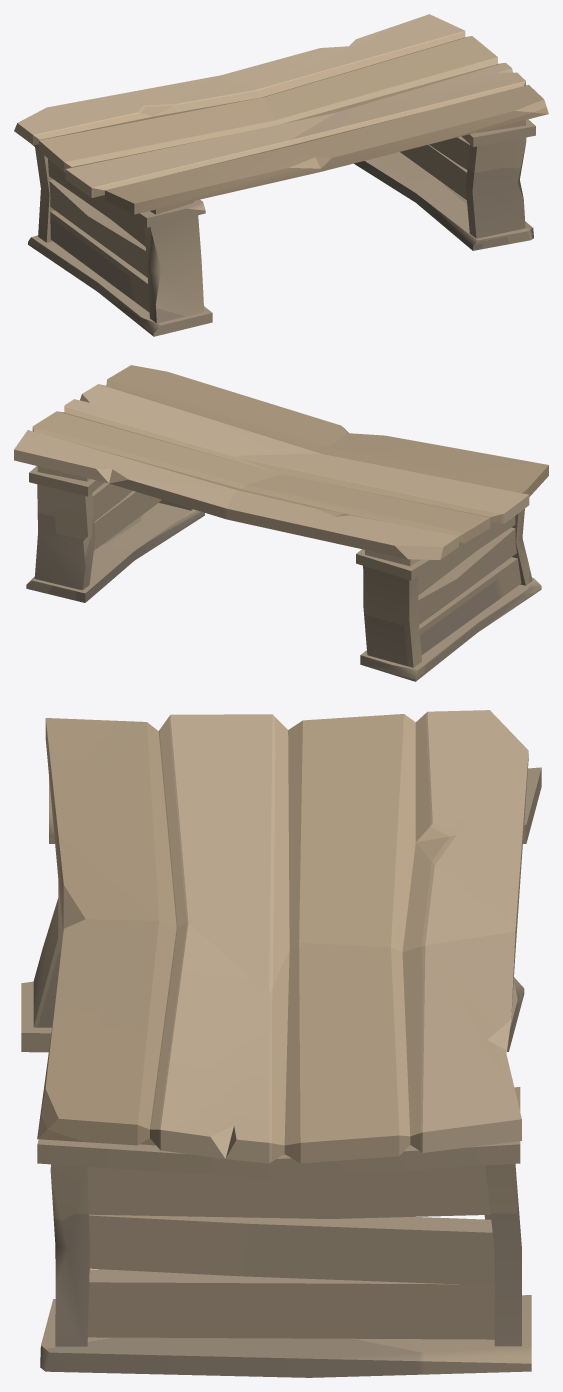
Rendered from SM_Prop_Makeshift_Table_01.glb.
3 renders of one model, top to bottom at view 1: azimuth 30°, elevation 25°; view 2: azimuth 150°, elevation 25°; view 3: azimuth 270°, elevation 25°, orthographic. The views are drawn at different scales.
Visible parts, largest first — view 1: SM_Prop_Makeshift_Table_01; view 2: SM_Prop_Makeshift_Table_01; view 3: SM_Prop_Makeshift_Table_01.
Part boxes in pixels (x1,y1,x2,y2): SM_Prop_Makeshift_Table_01: (14, 14, 548, 336); SM_Prop_Makeshift_Table_01: (14, 365, 548, 681); SM_Prop_Makeshift_Table_01: (21, 710, 541, 1377).
Bounding box in the file's own units: 2.27 × 0.6589 × 1.17.
1 material, 1 textured.
